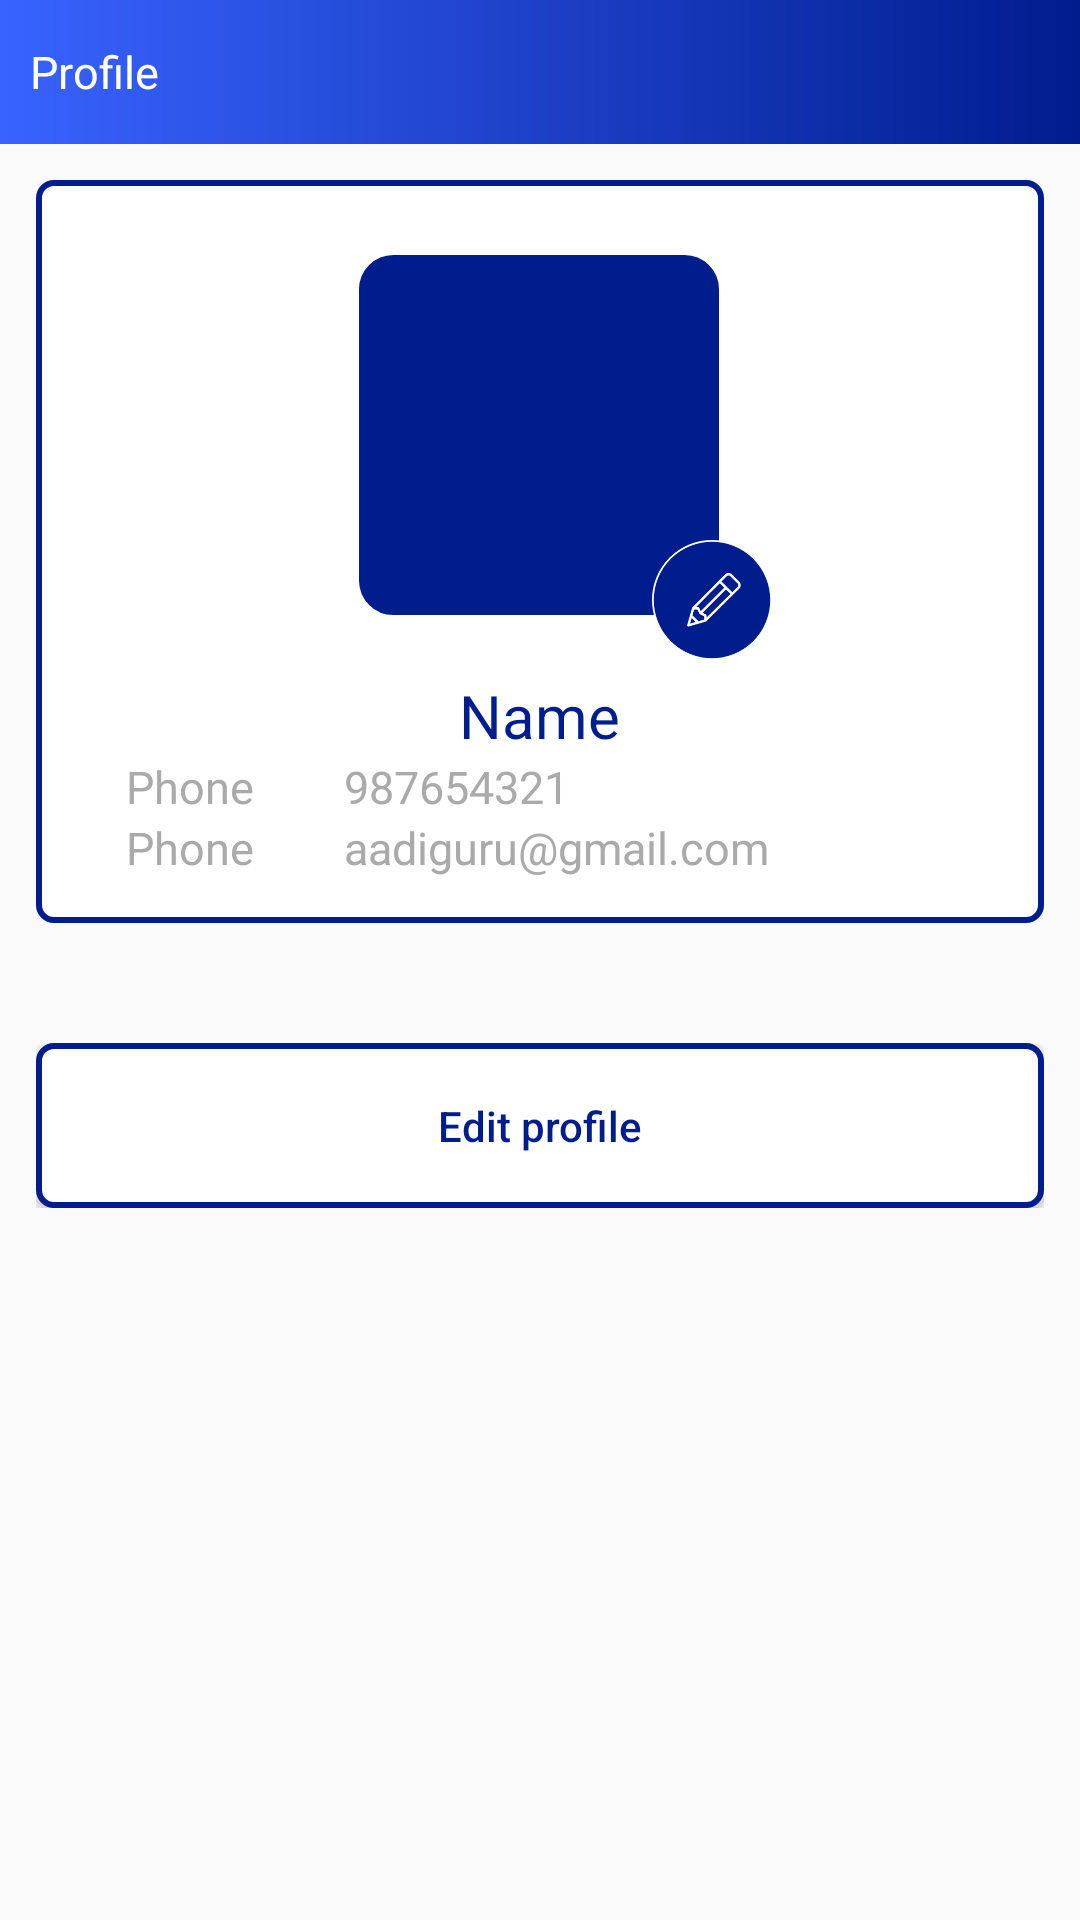

Where icons sit on this 1080*1920 app screen, as BBox(x1, y1, x2, y2):
edit profile: BBox(652, 540, 771, 659)
